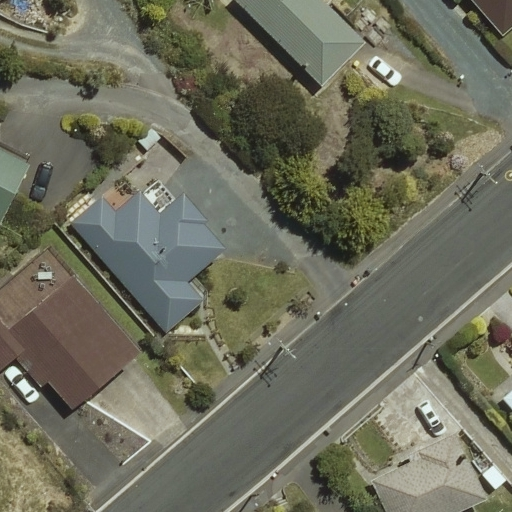DT: (473, 157, 503, 189), (271, 333, 300, 362)
